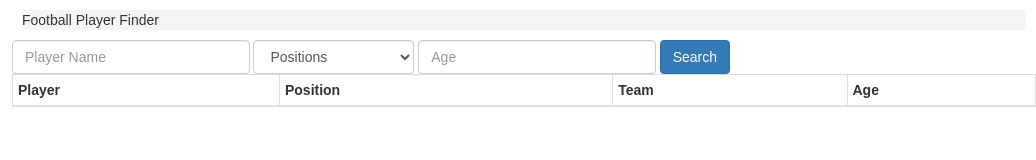
Test: Player List Component initial state › age input › should disable seacrh button for invalid age
This screenshot has width=1036, height=160.
Type "10" into the number field with id "age".
click(537, 57); type("10")  # box x1=418 y1=40 x2=656 y2=74
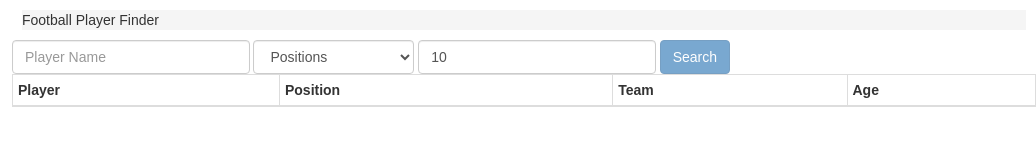
Expected: the button "Search" is disabled, x1=660 y1=40 x2=730 y2=74
